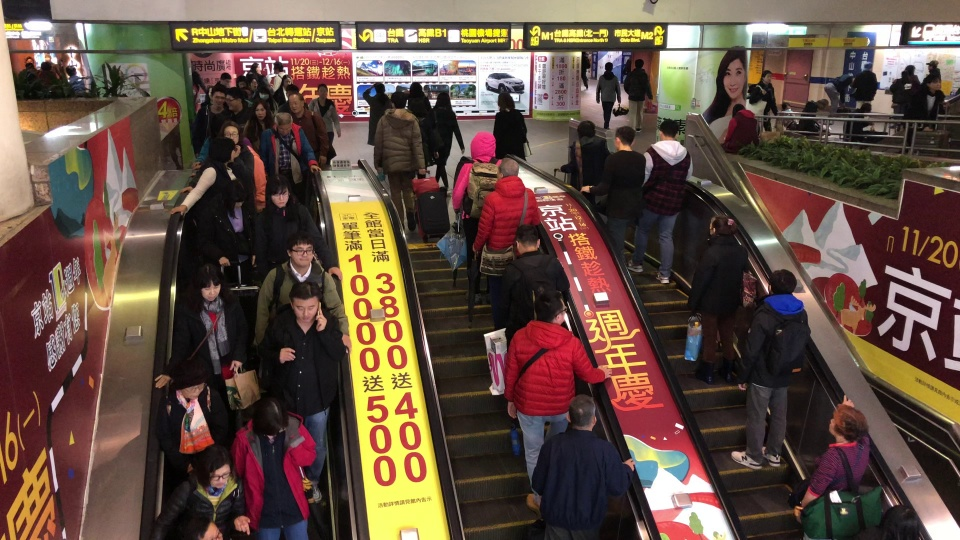person_head: (827, 394, 869, 444), (194, 444, 233, 491), (250, 394, 289, 437), (172, 358, 210, 401), (876, 502, 919, 540), (288, 281, 323, 322), (565, 394, 598, 431), (192, 263, 223, 301), (534, 289, 566, 325), (284, 230, 315, 267), (184, 514, 224, 540), (264, 174, 291, 209), (766, 268, 797, 297), (469, 130, 497, 161), (222, 177, 249, 209), (514, 223, 540, 255), (207, 135, 235, 163), (708, 213, 737, 238), (495, 156, 520, 182), (217, 118, 241, 145), (613, 125, 636, 151), (657, 118, 680, 142), (224, 86, 244, 111), (272, 112, 293, 135), (576, 119, 596, 141), (250, 98, 269, 120), (211, 84, 227, 108), (287, 92, 305, 113), (496, 92, 515, 110), (390, 91, 407, 110), (434, 91, 451, 110), (926, 73, 942, 91), (730, 102, 746, 118), (256, 84, 272, 99), (285, 83, 299, 99), (409, 82, 423, 97), (246, 75, 259, 90), (859, 102, 872, 117), (219, 71, 231, 87), (317, 82, 328, 99), (234, 74, 247, 87), (761, 69, 773, 83), (65, 65, 77, 77), (249, 62, 261, 74), (816, 98, 828, 110), (272, 60, 283, 73), (904, 63, 915, 76), (281, 74, 291, 88), (374, 82, 385, 94), (925, 60, 938, 70), (781, 102, 792, 113), (206, 86, 214, 101), (861, 61, 873, 71), (40, 61, 51, 71), (24, 63, 35, 72), (633, 59, 644, 68), (900, 69, 909, 79), (604, 62, 613, 71), (43, 53, 51, 61), (26, 56, 34, 63), (850, 75, 855, 86)
person_vbox: (503, 289, 612, 518), (256, 281, 347, 504), (729, 268, 811, 470), (530, 393, 636, 540), (154, 263, 248, 425), (228, 394, 318, 540), (253, 230, 352, 353), (471, 156, 540, 325), (624, 118, 693, 284), (685, 213, 749, 386), (794, 394, 869, 540), (492, 223, 570, 353), (149, 444, 251, 540), (253, 174, 343, 280), (580, 125, 646, 266), (450, 130, 502, 305), (153, 357, 228, 473), (178, 118, 256, 222), (372, 91, 426, 234), (195, 177, 257, 282), (257, 111, 322, 204), (169, 134, 236, 216), (557, 119, 610, 207), (429, 91, 465, 189), (189, 84, 236, 158), (900, 73, 942, 154), (405, 82, 439, 180), (287, 91, 329, 167), (308, 82, 342, 164), (491, 92, 528, 164), (622, 59, 653, 132), (720, 102, 759, 154), (842, 102, 888, 146), (890, 64, 920, 130), (362, 82, 391, 147), (241, 98, 275, 153), (749, 69, 778, 131), (595, 61, 621, 130), (887, 69, 913, 129), (824, 73, 856, 117), (851, 61, 878, 111), (796, 98, 831, 135), (219, 87, 251, 126), (192, 85, 214, 134), (276, 82, 309, 113), (256, 84, 278, 117), (774, 101, 798, 131), (272, 74, 292, 106), (65, 65, 84, 94), (190, 65, 207, 96), (43, 53, 62, 80), (272, 60, 287, 92), (37, 62, 55, 87), (580, 51, 591, 90), (924, 59, 941, 80), (22, 63, 37, 82)
